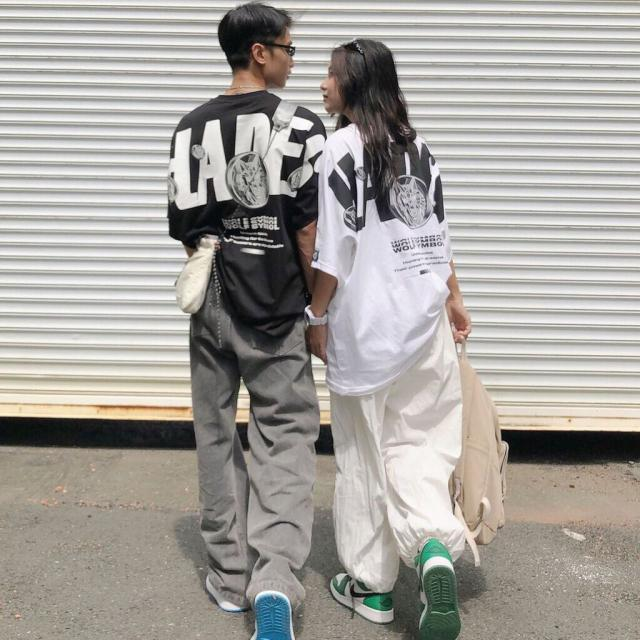Shirt: (160, 92, 326, 338), (313, 121, 456, 392)
